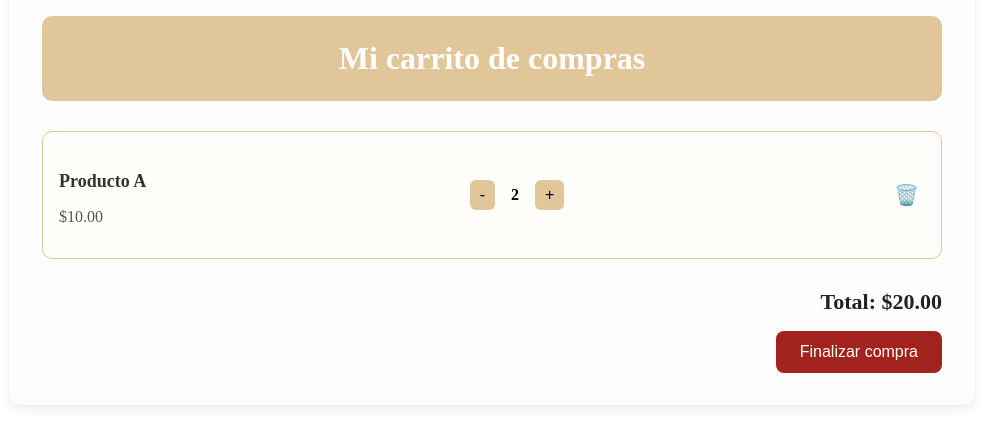
Test: CartShop › puede cambiar la cantidad de un item
Expected: the text "2" is shown, [511,186,519,203]
// Click para aumentar cantidad
Click the button "+": (550, 195) [535,180,564,210]
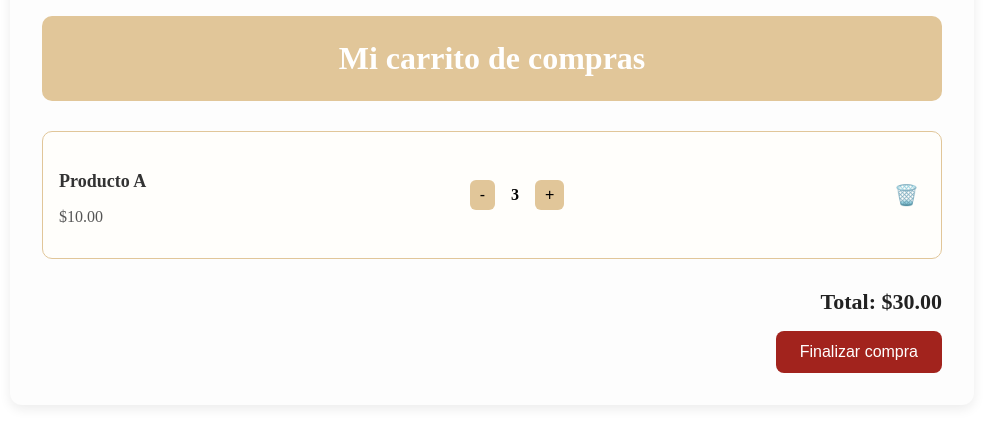
Expected: the text "3" is shown, [511,186,519,203]
